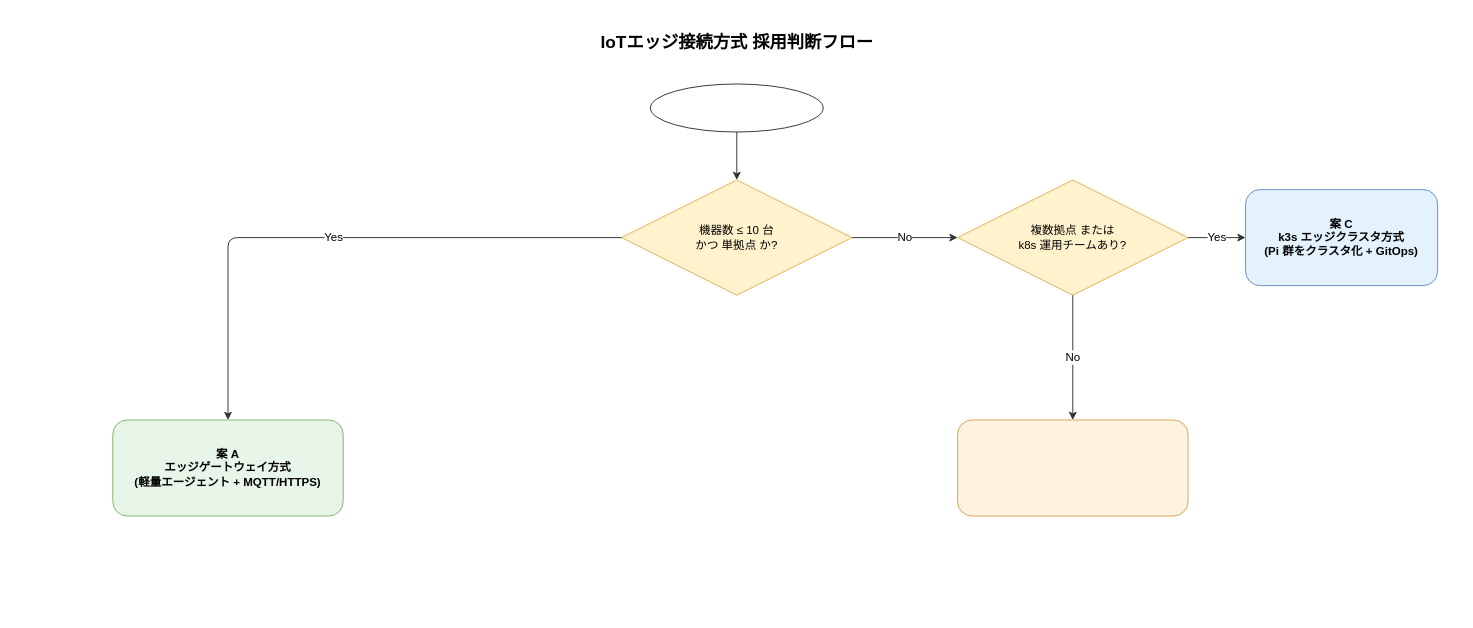
Some shapes in this 1473 by 628 pixel diagram are drawn without their labels. The shapes that lost their labels are listed below. From the top down, each one's centre as x and y in pixels, then its label:
At point (736, 107): "IoT 機器接続の検討開始".
At point (1072, 467): "案 B Dapr サイドカー方式 (Pi 単体で Dapr 起動)".
